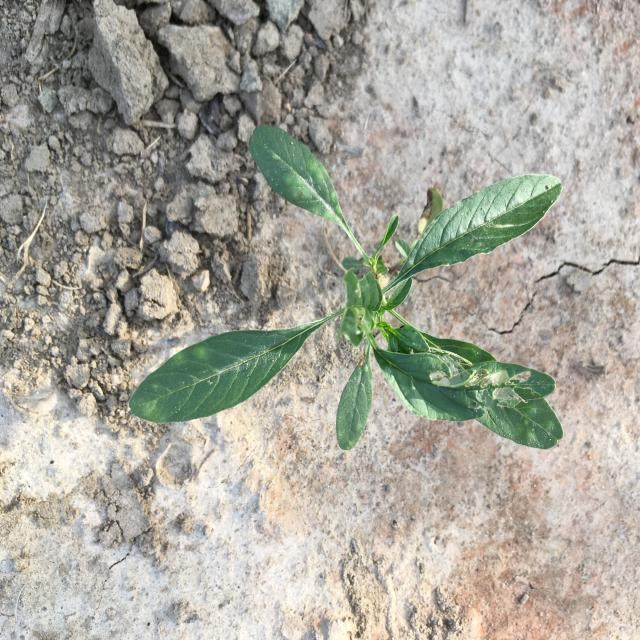Waterhemp: (129, 125, 564, 452)
